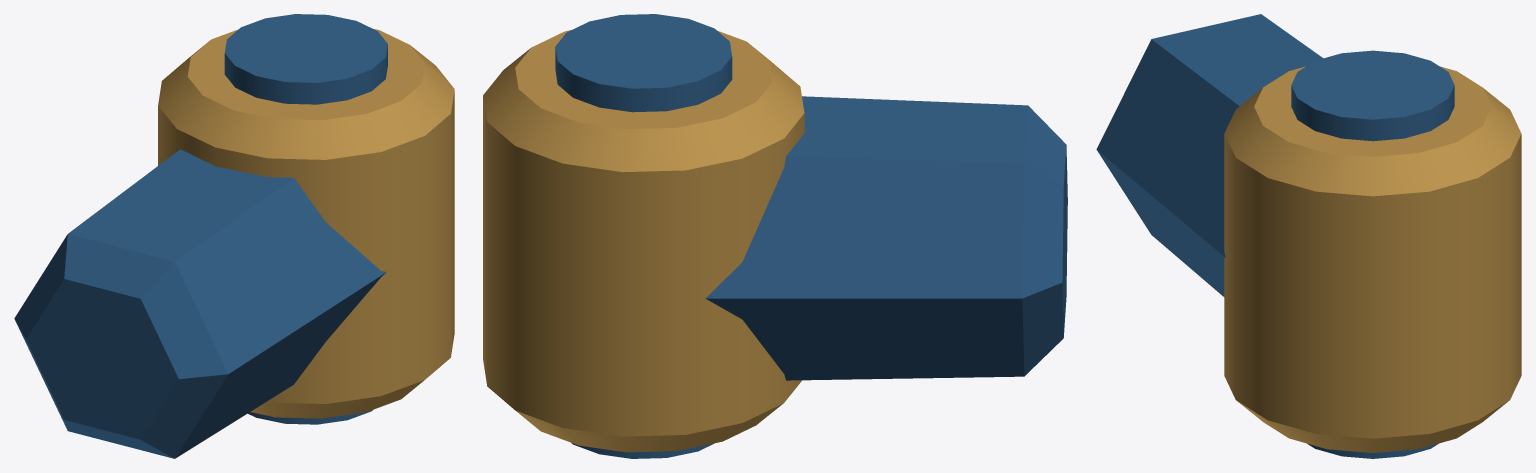
The model's file is rm2_leg_fr_coxa.obj.
3 views of the same model, side by side, from view 1: azimuth 30°, elevation 25°; view 2: azimuth 150°, elevation 25°; view 3: azimuth 270°, elevation 25° (orthographic). The views are drawn at different scales.
Parts seen in each view (by area): view 1: rm2_leg_fr_coxa; view 2: rm2_leg_fr_coxa; view 3: rm2_leg_fr_coxa.
Part boxes in pixels (x1=…): rm2_leg_fr_coxa: x1=14, y1=14, x2=454, y2=458; rm2_leg_fr_coxa: x1=483, y1=14, x2=1067, y2=458; rm2_leg_fr_coxa: x1=1096, y1=14, x2=1521, y2=458.
Bounding box in the file's own units: 0.1786 × 0.126 × 0.1431.
